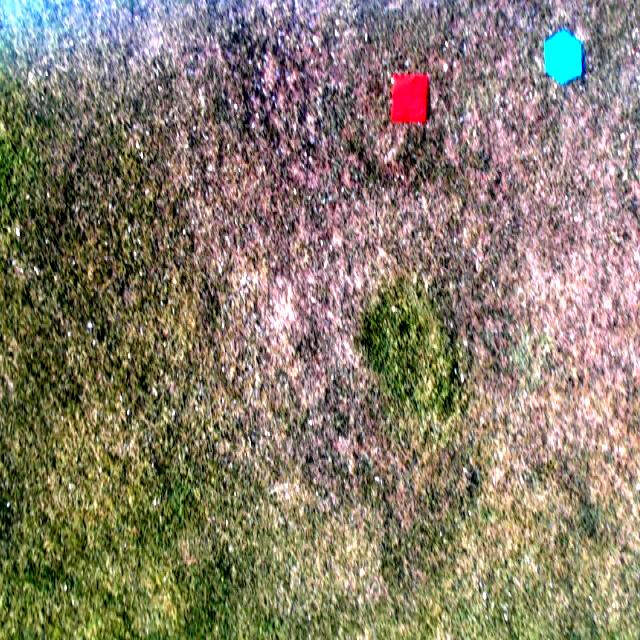blue_hexagon: (545, 31, 583, 84)
red_square: (391, 75, 427, 121)
